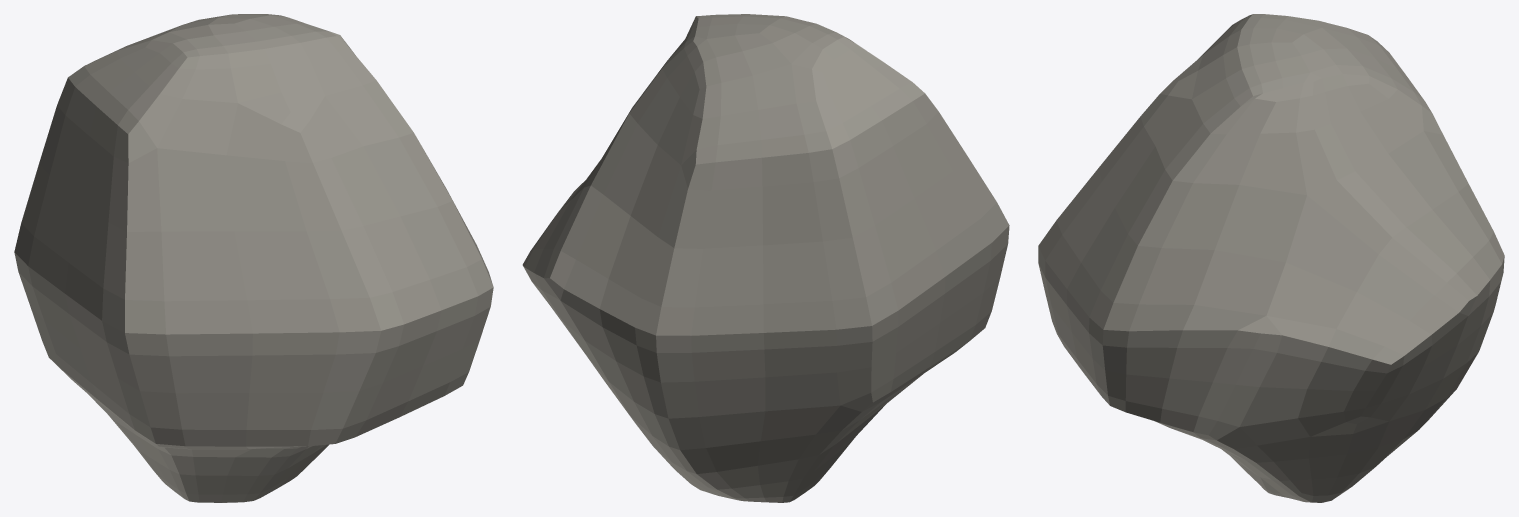
The model's file is 3D_rock.fbx.
The picture shows the model from 3 angles, left to right: view 1: azimuth 30°, elevation 25°; view 2: azimuth 150°, elevation 25°; view 3: azimuth 270°, elevation 25°; orthographic projection. The views are drawn at different scales.
Parts seen in each view (by area): view 1: Rock; view 2: Rock; view 3: Rock.
Part boxes in pixels (x1,y1,x2,y2): Rock: [14, 14, 493, 502]; Rock: [522, 14, 1009, 502]; Rock: [1038, 14, 1504, 502].
Size of the model in its own units: 1.61 by 1.87 by 1.8.
